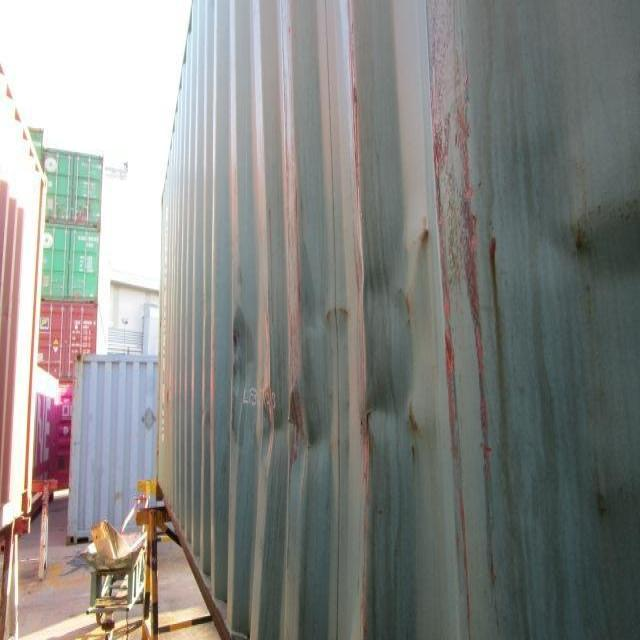dent: (212, 228, 460, 485)
